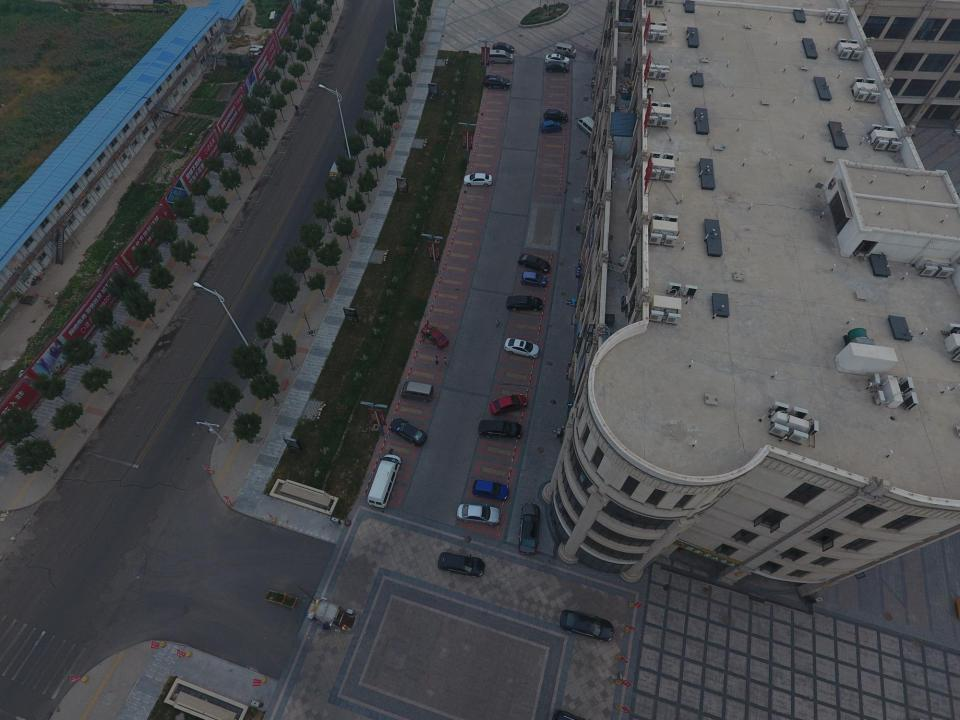car: (560, 609, 614, 643), (437, 551, 486, 578), (519, 503, 541, 555), (389, 417, 428, 446), (456, 503, 500, 525), (478, 419, 523, 440), (489, 393, 528, 416), (471, 479, 509, 502), (503, 338, 540, 359), (422, 324, 450, 349), (505, 294, 542, 312), (518, 253, 550, 272), (520, 271, 548, 288), (484, 74, 511, 90), (464, 173, 493, 187), (543, 109, 568, 122), (540, 120, 563, 134), (545, 61, 571, 73), (492, 42, 514, 54), (545, 54, 570, 64)
van: (367, 454, 402, 509), (399, 380, 435, 403), (576, 116, 600, 140), (486, 49, 514, 64), (556, 41, 576, 59), (329, 160, 344, 182)
